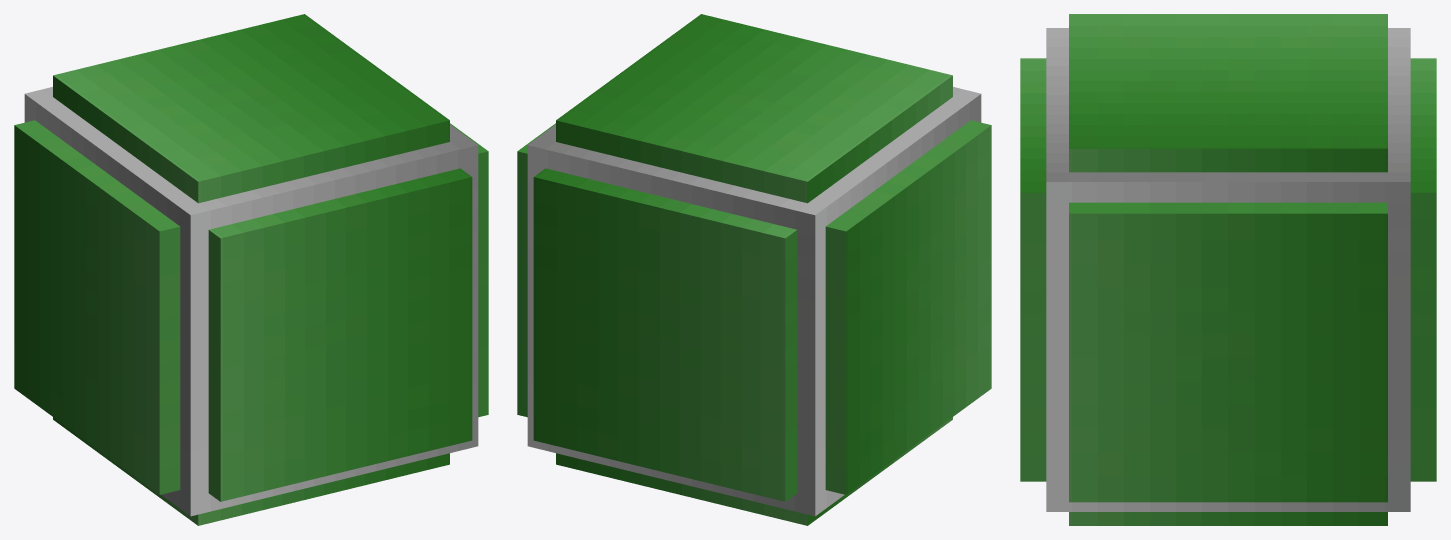
Rendered from energizer.obj.
3 renders of one model, left to right at view 1: azimuth 30°, elevation 25°; view 2: azimuth 150°, elevation 25°; view 3: azimuth 270°, elevation 25°, orthographic. The views are drawn at different scales.
Visible parts, largest first — view 1: Cube; view 2: Cube; view 3: Cube.
Part boxes in pixels (x1,y1,x2,y2): Cube: (14,14,488,525); Cube: (517,14,991,525); Cube: (1020,14,1436,525).
Bounding box in the file's own units: 1 × 1 × 1.
